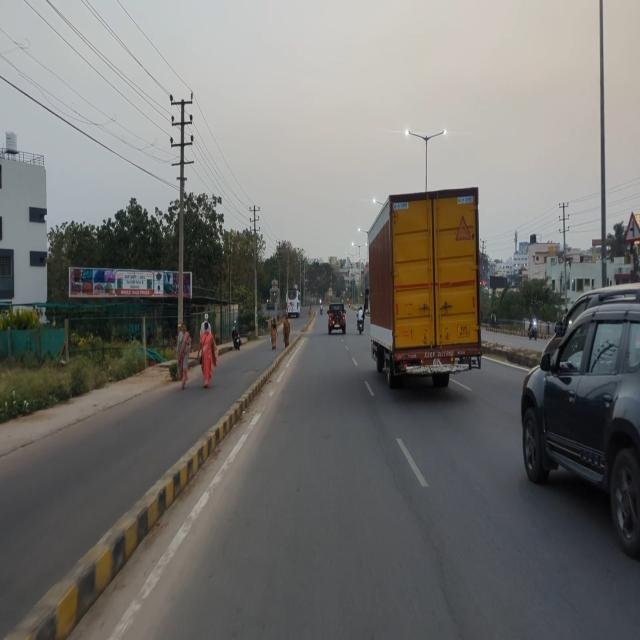bien_cam: (621, 208, 640, 246)
